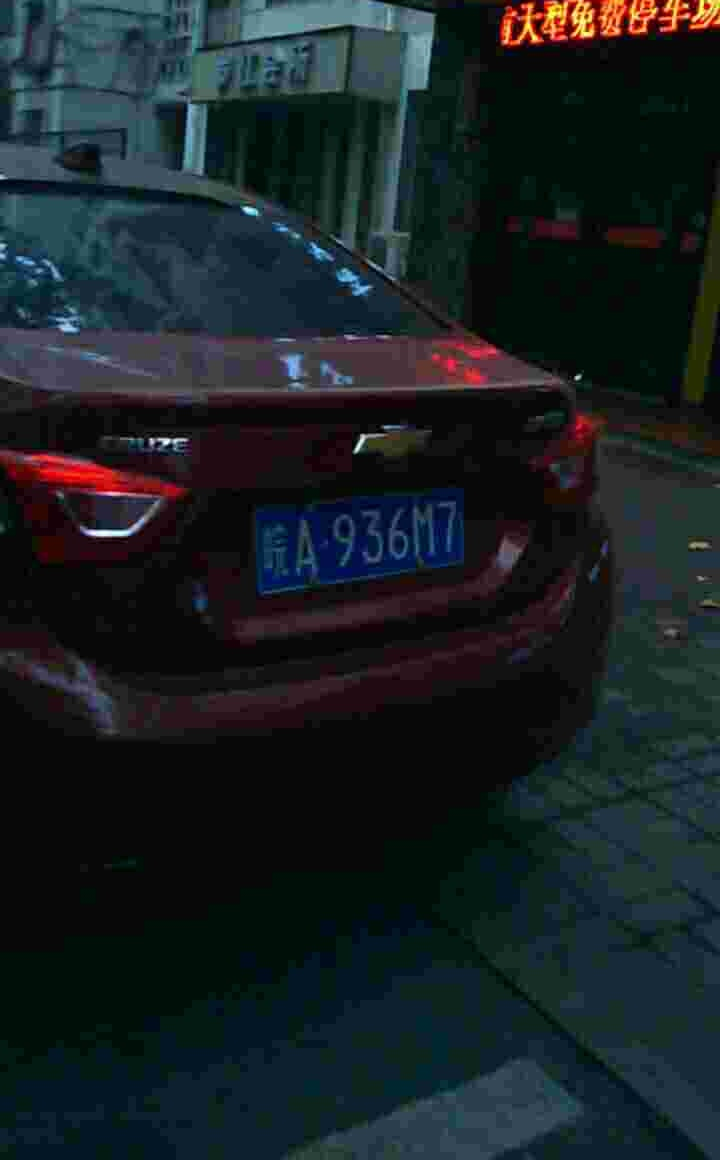car: (241, 502, 483, 577)
